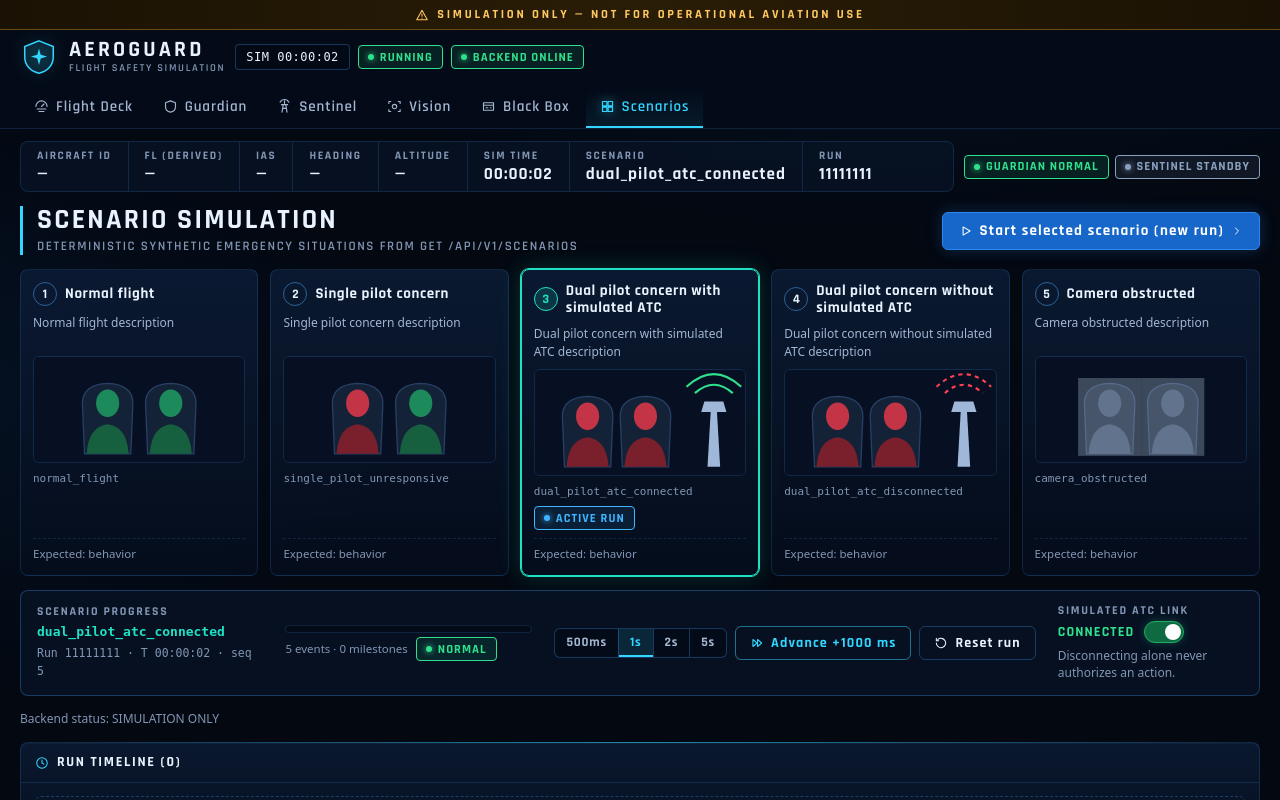
ISSUE 1 REGRESSION: Audit history cursor pagination & event retention › retrieves previously unfetched events even if a command response carried a higher seq
Click the button "Advance +1000 ms". click: coordinates (823, 643)
box: x1=735 y1=626 x2=912 y2=660
(page scrolled)
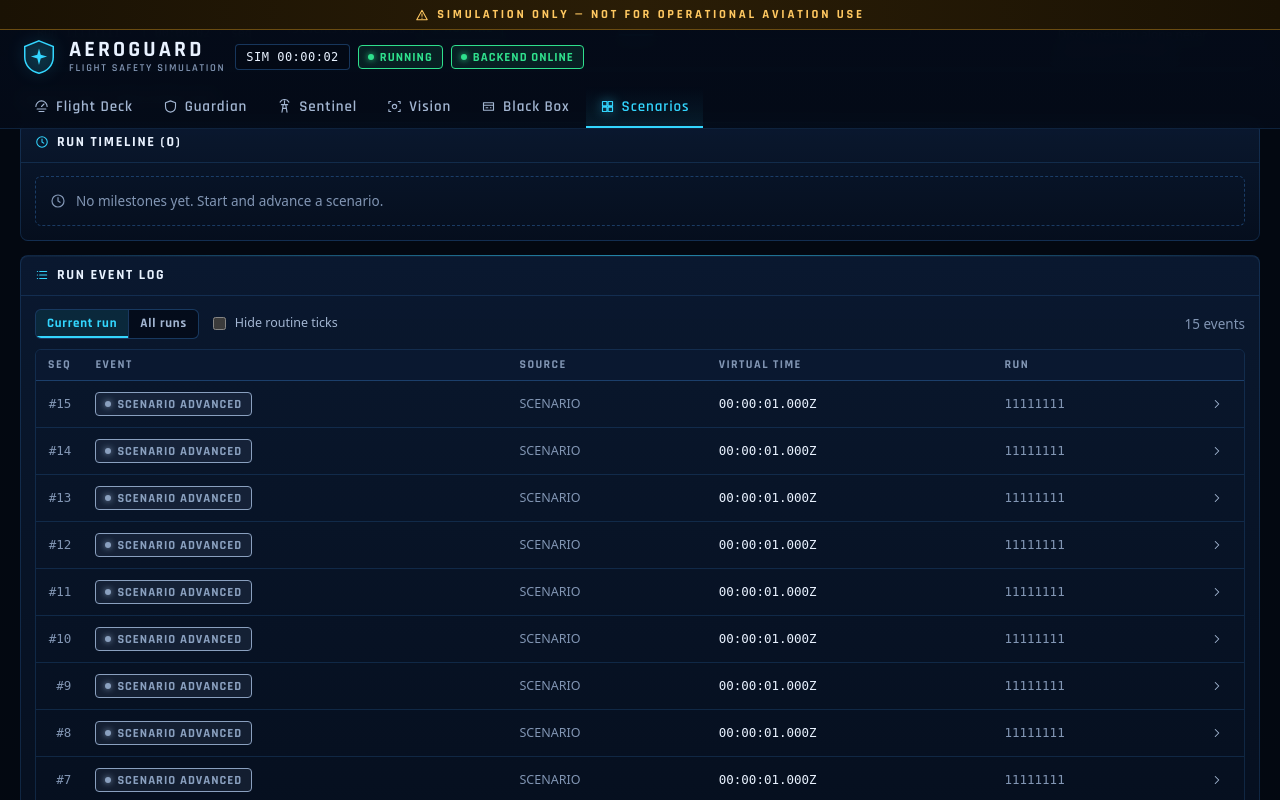
Now the text "#15" is shown, box x1=36 y1=380 x2=83 y2=428
Now the text "#10" is shown, box x1=36 y1=616 x2=83 y2=662
Now the text "#14" is shown, box x1=36 y1=428 x2=83 y2=474
